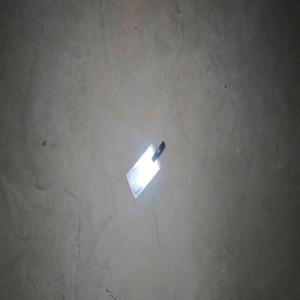LuggageTag: (126, 139, 166, 200)
